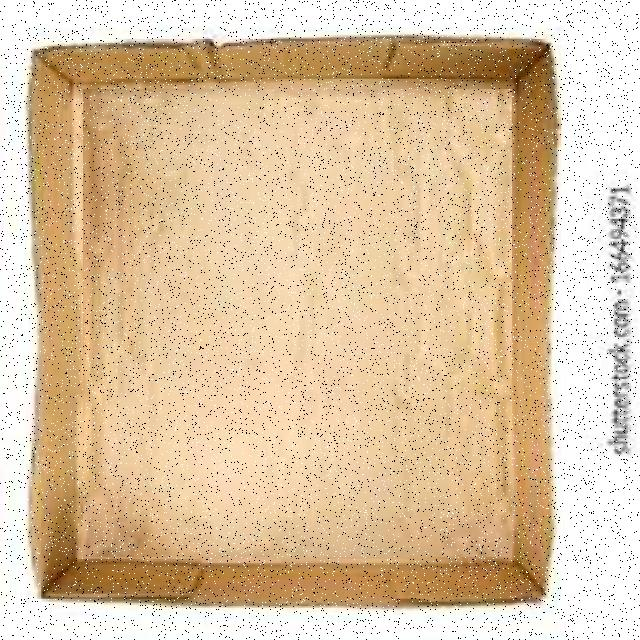normal: (83, 89, 512, 557)
